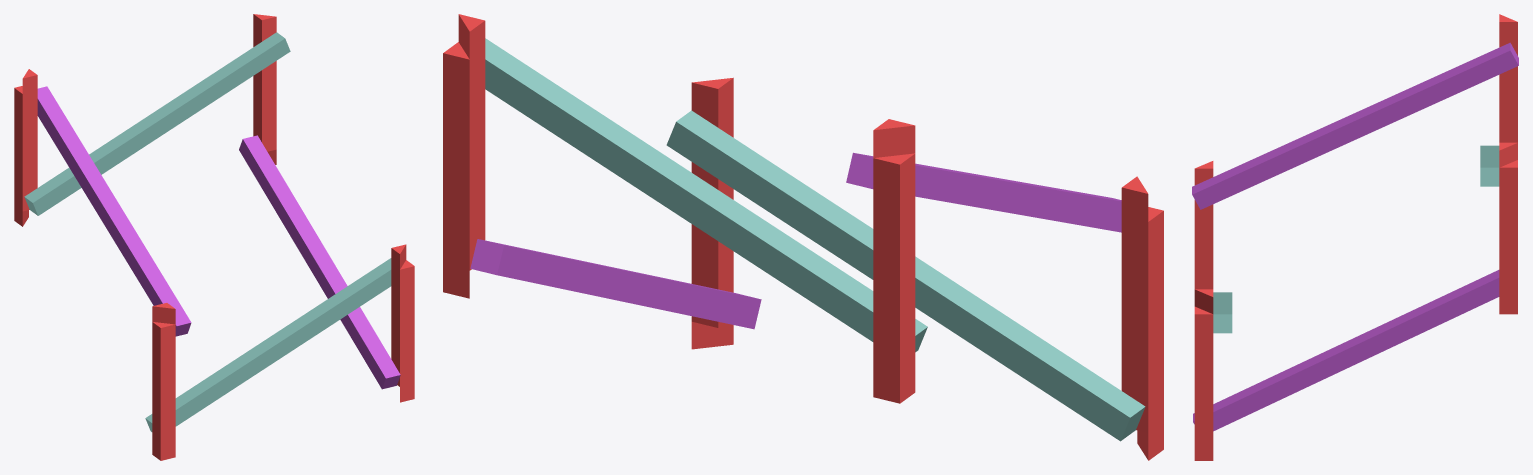
Rendered from ModuleA_color.obj.
3 views of the same model, side by side, from view 1: azimuth 30°, elevation 25°; view 2: azimuth 150°, elevation 25°; view 3: azimuth 270°, elevation 25° (orthographic). The views are drawn at different scales.
Parts seen in each view (by area): view 1: half_module stick_640, half_module stick_v, half_module stick_660; view 2: half_module stick_640, half_module stick_v, half_module stick_660; view 3: half_module stick_660, half_module stick_v, half_module stick_640.
Part boxes in pixels (<box>): half_module stick_640: <box>24,32,391,431</box>; half_module stick_v: <box>14,14,414,460</box>; half_module stick_660: <box>37,86,400,389</box>; half_module stick_640: <box>485,38,1145,441</box>; half_module stick_v: <box>443,14,1163,460</box>; half_module stick_660: <box>470,152,1121,329</box>; half_module stick_660: <box>1192,42,1518,431</box>; half_module stick_v: <box>1194,14,1517,460</box>; half_module stick_640: <box>1213,145,1499,333</box>.
Bounding box in the file's own units: 0.6127 × 0.635 × 0.606.
